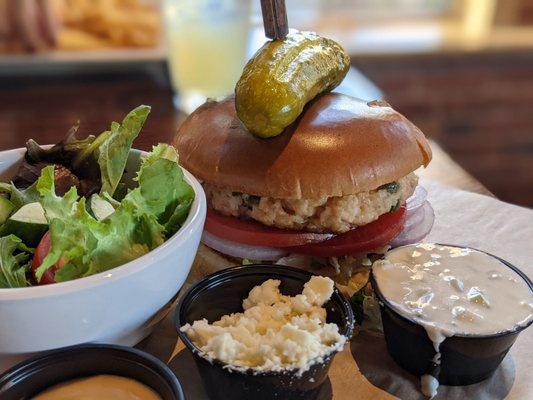pizza: (160, 0, 255, 115)
soup: (172, 30, 435, 259)
sushi: (0, 107, 208, 355), (174, 264, 359, 400), (0, 345, 186, 400)
